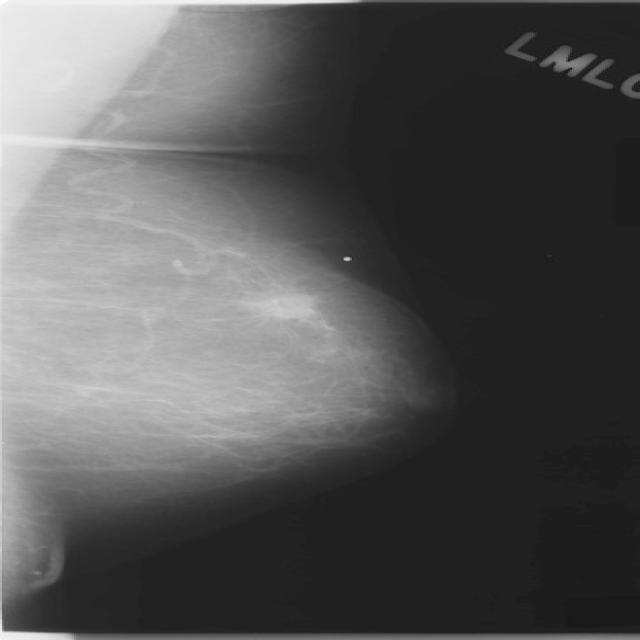tumour: (249, 289, 315, 319)
